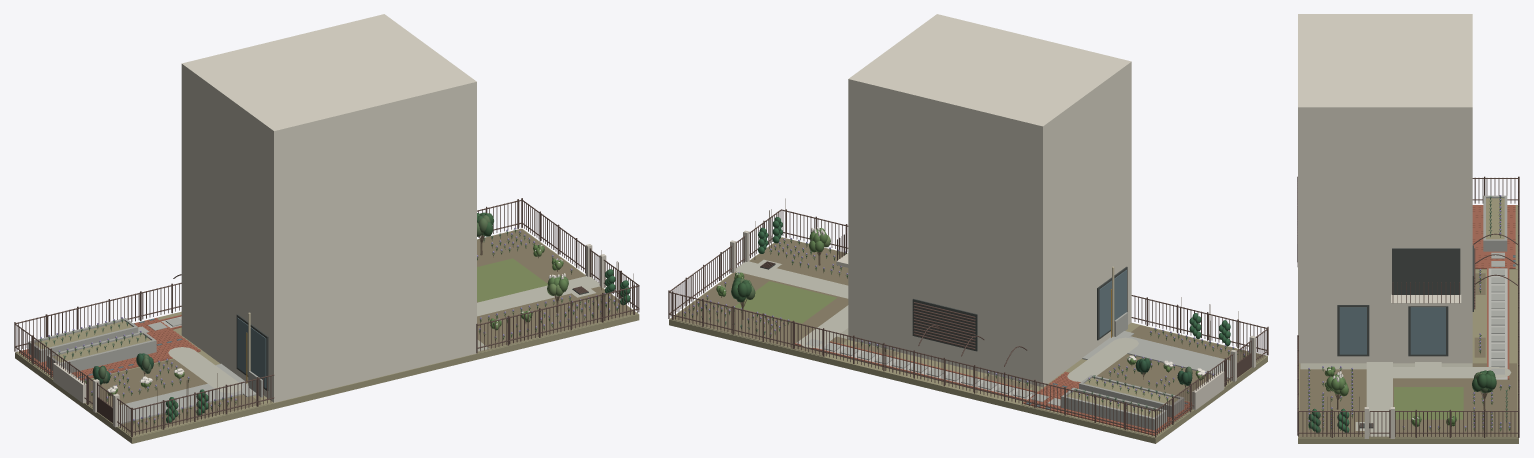
Rendered from design-A-year1.glb.
3 renders of one model, left to right at view 1: azimuth 30°, elevation 25°; view 2: azimuth 150°, elevation 25°; view 3: azimuth 270°, elevation 25°, orthographic. The views are drawn at different scales.
Visible parts, largest first — view 1: Unsurveyed_Building_Mass, Boundary_Fences_Approximate_metal, R0_Flat_Datum, S-west-border, Proposed_Planting_Beds_And_Mulch, Footprint_Proxy_Unsurveyed, N-woodland, S-lawn, S-east-border, Grey_Access_Route_Approximate, Red_Brick_Joints_Indicative_brick, S-main_New_Warm_Grey_Paving (+9 smaller); view 2: Unsurveyed_Building_Mass, Boundary_Fences_Approximate_metal, R0_Flat_Datum, Proposed_Planting_Beds_And_Mulch, S-east-border, S-lawn, Footprint_Proxy_Unsurveyed, N-woodland, S-west-border, Wall_Services_Visible_Proxies_dark, Wall_Services_Visible_Proxies_metal, Grey_Access_Route_Approximate (+14 smaller); view 3: Unsurveyed_Building_Mass, Visible_bare_Openings_dark, Boundary_Fences_Approximate_metal, Proposed_Planting_Beds_And_Mulch, Visible_bare_Openings_glass, R0_Flat_Datum, S-east-border, S-west-border, S-lawn, S-main_New_Warm_Grey_Paving, Zone_3_Steps_And_Gravel_slab, S-side_New_Warm_Grey_Paving (+18 smaller).
Part boxes in pixels (x1,y1,x2,y2): Unsurveyed_Building_Mass: (181,14,476,394); Boundary_Fences_Approximate_metal: (14,198,639,437); R0_Flat_Datum: (15,231,639,443); S-west-border: (477,292,632,346); Proposed_Planting_Beds_And_Mulch: (83,229,636,435); Footprint_Proxy_Unsurveyed: (181,327,476,402); N-woodland: (85,360,196,403); S-lawn: (477,258,547,302); S-east-border: (477,230,581,278); Grey_Access_Route_Approximate: (112,383,242,423); Red_Brick_Joints_Indicative_brick: (20,318,200,379); S-main_New_Warm_Grey_Paving: (477,276,600,316); Unsurveyed_Building_Mass: (848,14,1131,378); Boundary_Fences_Approximate_metal: (668,209,1268,437); R0_Flat_Datum: (669,243,1267,443); Proposed_Planting_Beds_And_Mulch: (673,237,1263,401); S-east-border: (676,274,790,341); S-lawn: (735,281,836,323); Footprint_Proxy_Unsurveyed: (848,314,1131,387); N-woodland: (1097,359,1211,398); S-west-border: (757,239,848,280); Wall_Services_Visible_Proxies_dark: (912,298,977,351); Wall_Services_Visible_Proxies_metal: (913,302,975,349); Grey_Access_Route_Approximate: (1127,336,1230,378); Unsurveyed_Building_Mass: (1298,14,1472,355); Visible_bare_Openings_dark: (1337,248,1460,356); Boundary_Fences_Approximate_metal: (1297,176,1519,437); Proposed_Planting_Beds_And_Mulch: (1300,363,1516,436); Visible_bare_Openings_glass: (1339,307,1445,354); R0_Flat_Datum: (1298,270,1518,443); S-east-border: (1397,389,1514,435); S-west-border: (1302,370,1354,435); S-lawn: (1394,387,1463,419); S-main_New_Warm_Grey_Paving: (1366,362,1392,436); Zone_3_Steps_And_Gravel_slab: (1491,252,1504,374); S-side_New_Warm_Grey_Paving: (1366,367,1511,378).
Size of what is drawn, in the model's own units: 25.22 by 13.1 by 10.06.
